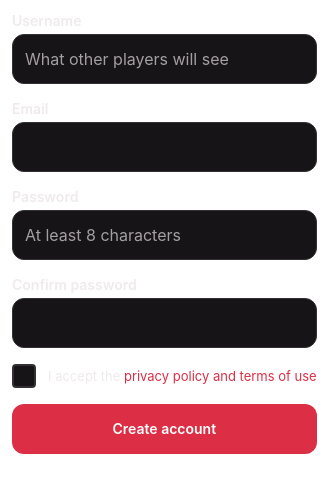
Test: RegisterForm › shows a taken email under the email field
Type "ana" into the field named "Username". click: (164, 59)
box: [12, 34, 317, 84]
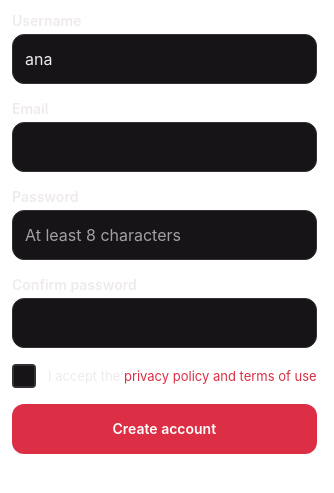
Type "ana@mail.com" into the field named "Email". click: (164, 147)
box: [12, 122, 317, 172]
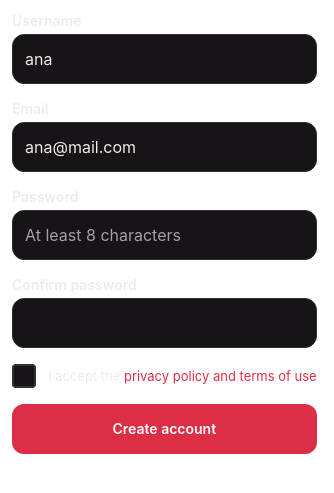
Type "correct-horse-battery" into the password field named "Password". click: (164, 235)
box: [12, 210, 317, 260]
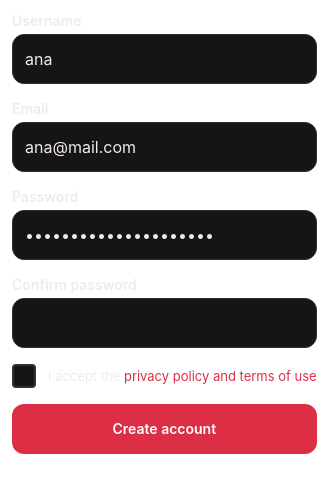
Type "correct-horse-battery" into the password field named "Confirm password". click: (164, 323)
box: [12, 298, 317, 348]
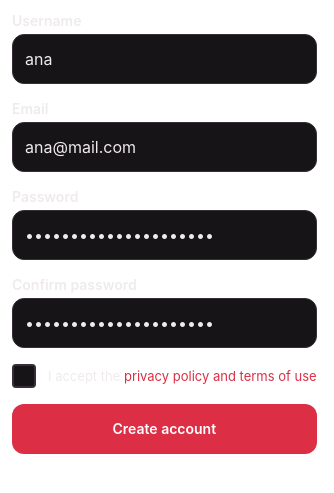
Click the checkbox named "I accept the privacy policy and terms of use". click: click(24, 376)
box: [12, 364, 36, 388]
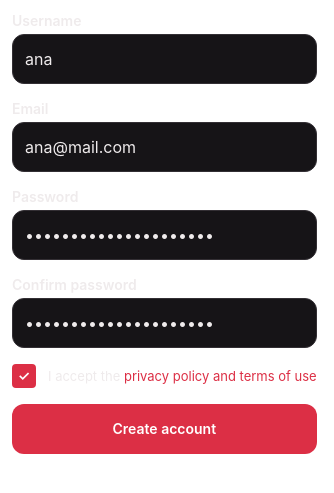
Click the button "Create account". click: click(164, 429)
box: [12, 404, 317, 454]
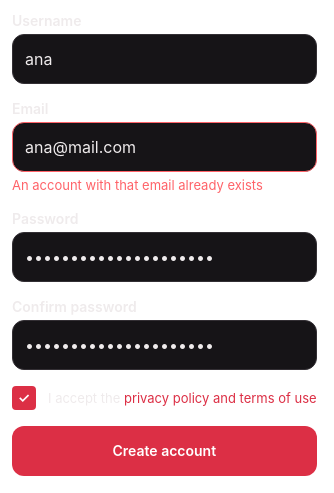
Check: the text "An account with that email already exists" is shown, box [12, 177, 263, 193]
